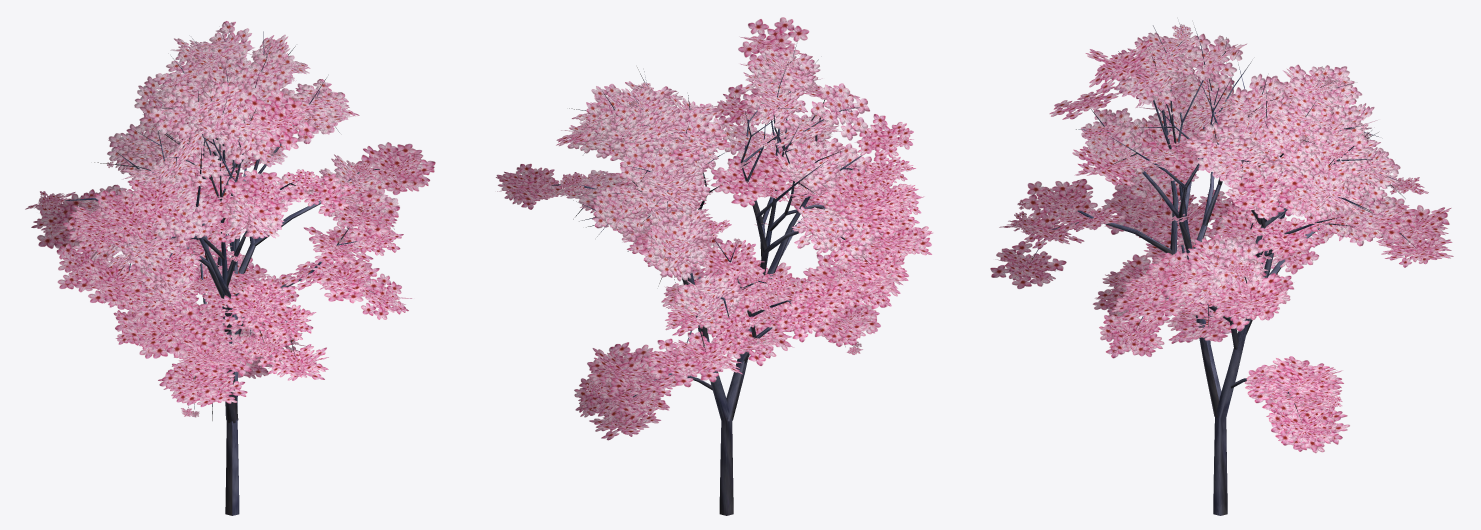
Rendered from pm-sakura-01.glb.
The picture shows the model from 3 angles, left to right: view 1: azimuth 30°, elevation 25°; view 2: azimuth 150°, elevation 25°; view 3: azimuth 270°, elevation 25°; orthographic projection. The views are drawn at different scales.
Visible parts, largest first — view 1: Sakura01_Art; view 2: Sakura01_Art; view 3: Sakura01_Art.
Boxes of the visible parts, x1,y1,x2,y2 form: Sakura01_Art: (25,21,435,515); Sakura01_Art: (495,17,933,515); Sakura01_Art: (990,23,1453,515).
Size of the model in its own units: 5.89 by 6.27 by 5.86.
2 materials, 2 textured.
